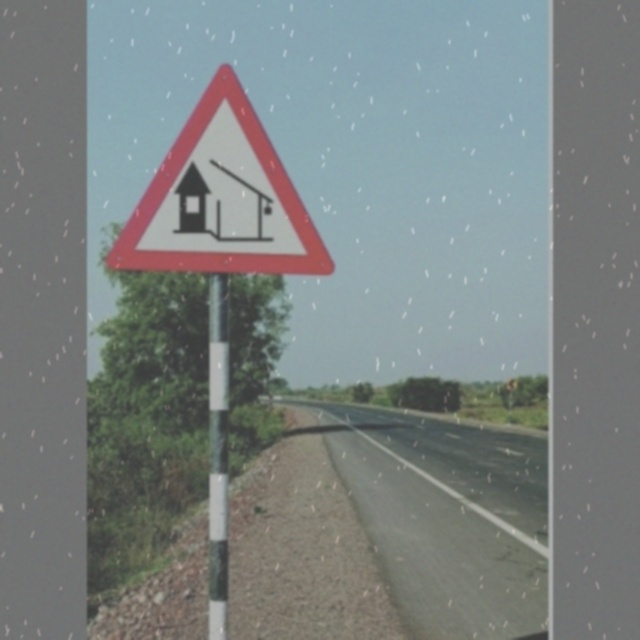Barrier_Ahead: (109, 65, 330, 286)
